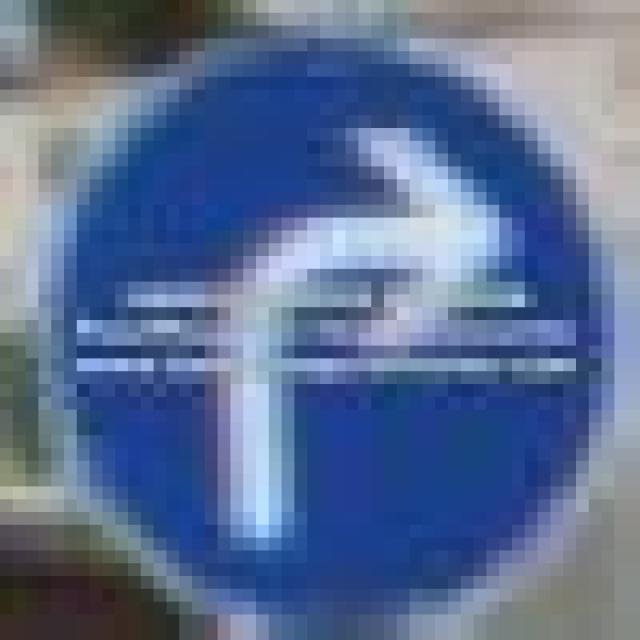railway_crossing: (39, 26, 602, 627)
